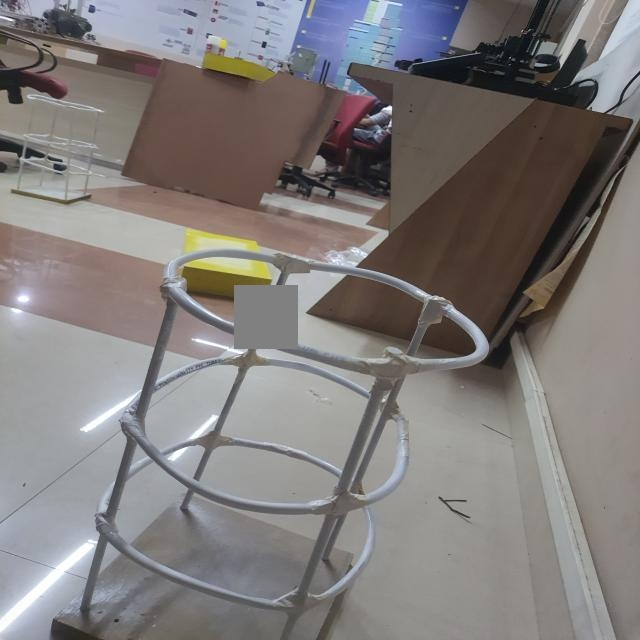silo: (57, 246, 483, 640), (13, 90, 98, 212)
